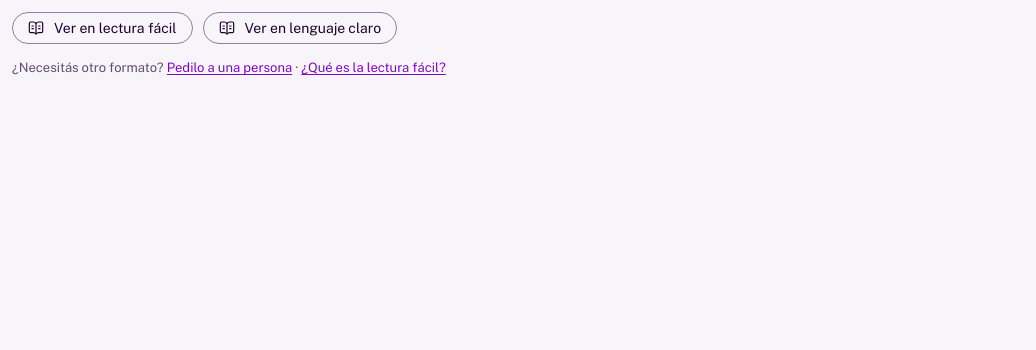
Test: AccessibleVersionPanel › pide la versión, la muestra con badge "Generado por IA" y el glosario
Click the button "Ver en lectura fácil": {"x": 102, "y": 28} x1=12 y1=12 x2=192 y2=44
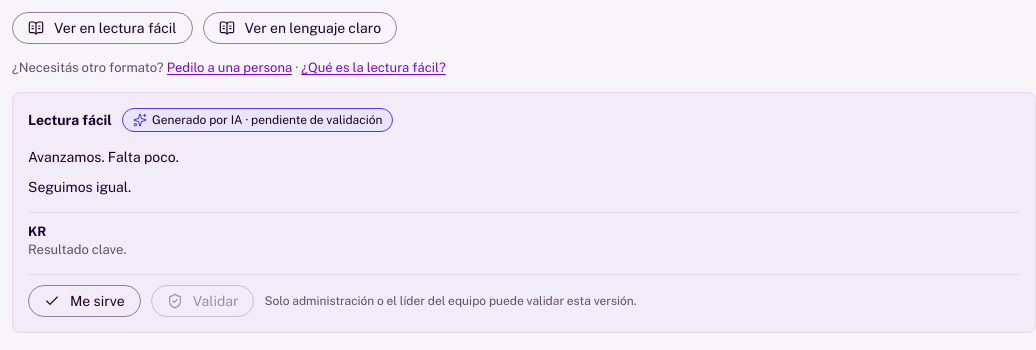
Now the text "Avanzamos. Falta poco." is shown, box x1=28 y1=149 x2=179 y2=165
Now the text "Generado por IA · pendiente de validación" is shown, box x1=122 y1=108 x2=393 y2=132
Now the text "Resultado clave." is shown, box x1=28 y1=242 x2=126 y2=257
